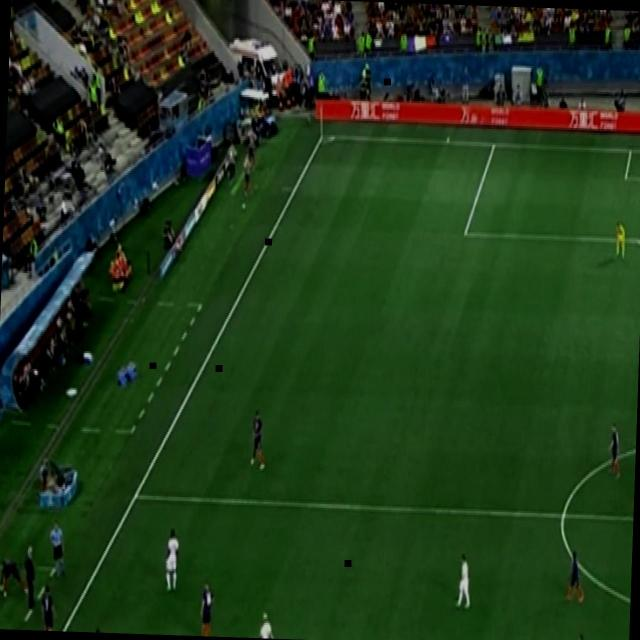ball: (241, 200, 246, 212)
player-white: (562, 549, 587, 607), (0, 555, 30, 602), (46, 517, 68, 581), (248, 407, 268, 475), (162, 526, 182, 594), (452, 552, 474, 612), (605, 420, 623, 484), (196, 580, 216, 636), (37, 581, 59, 631), (612, 220, 628, 262), (256, 608, 276, 638), (569, 631, 590, 640)
